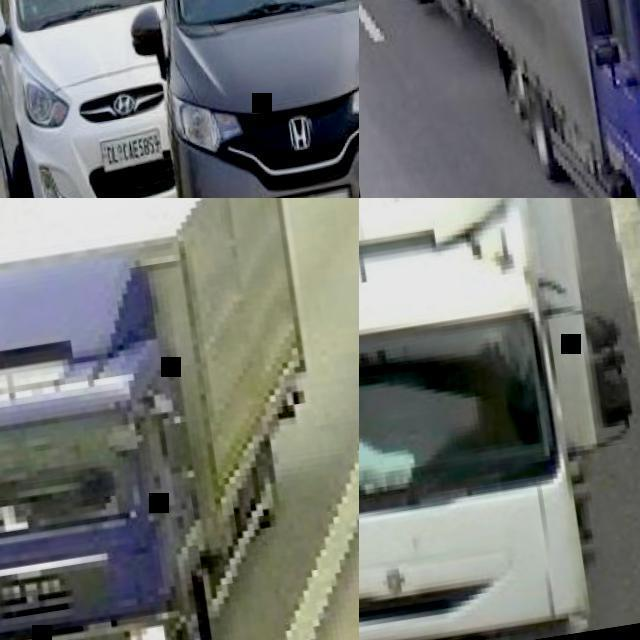car: (160, 1, 360, 195), (448, 2, 639, 189), (1, 0, 165, 196)
